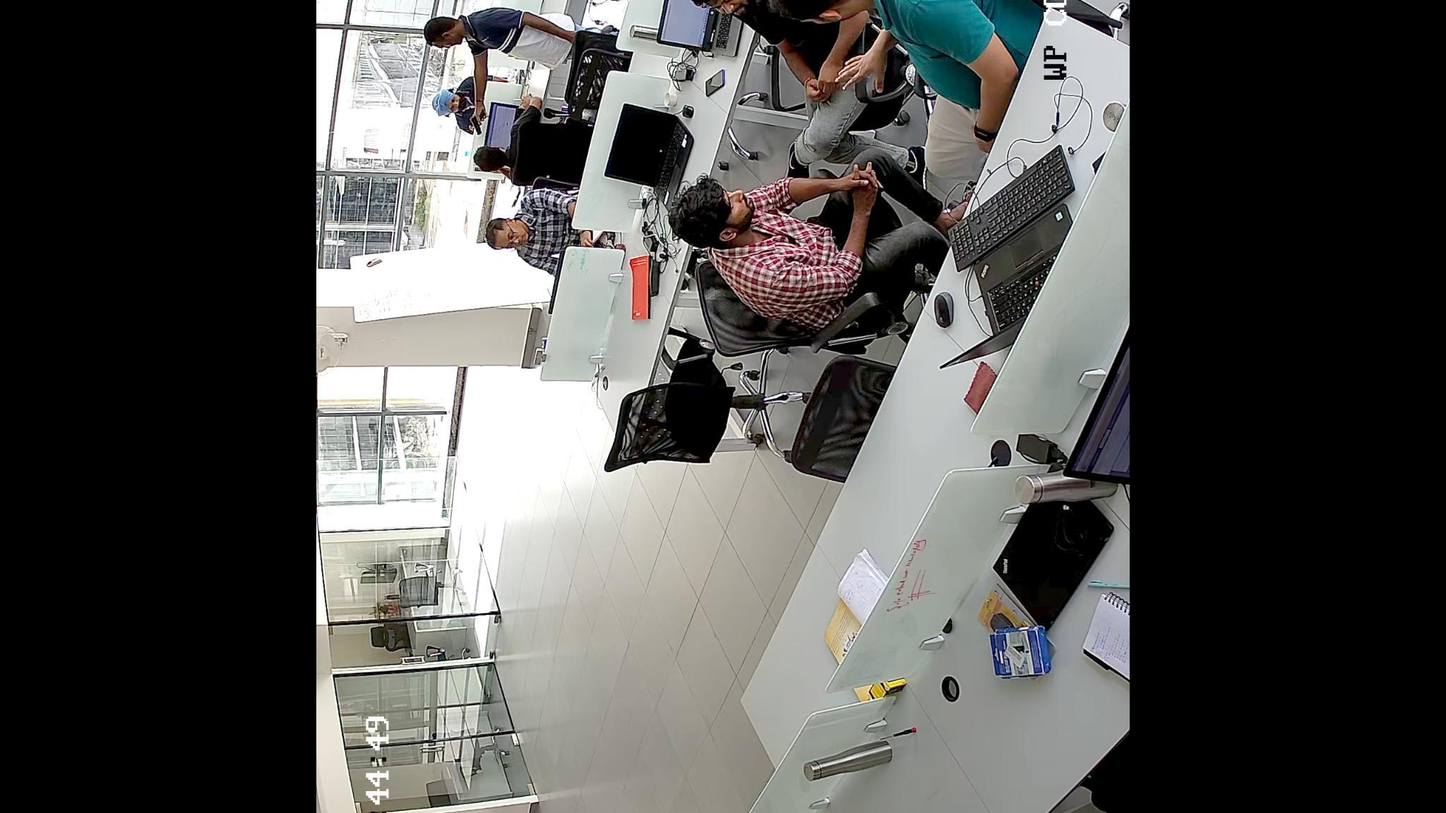gun: (470, 111, 486, 135)
